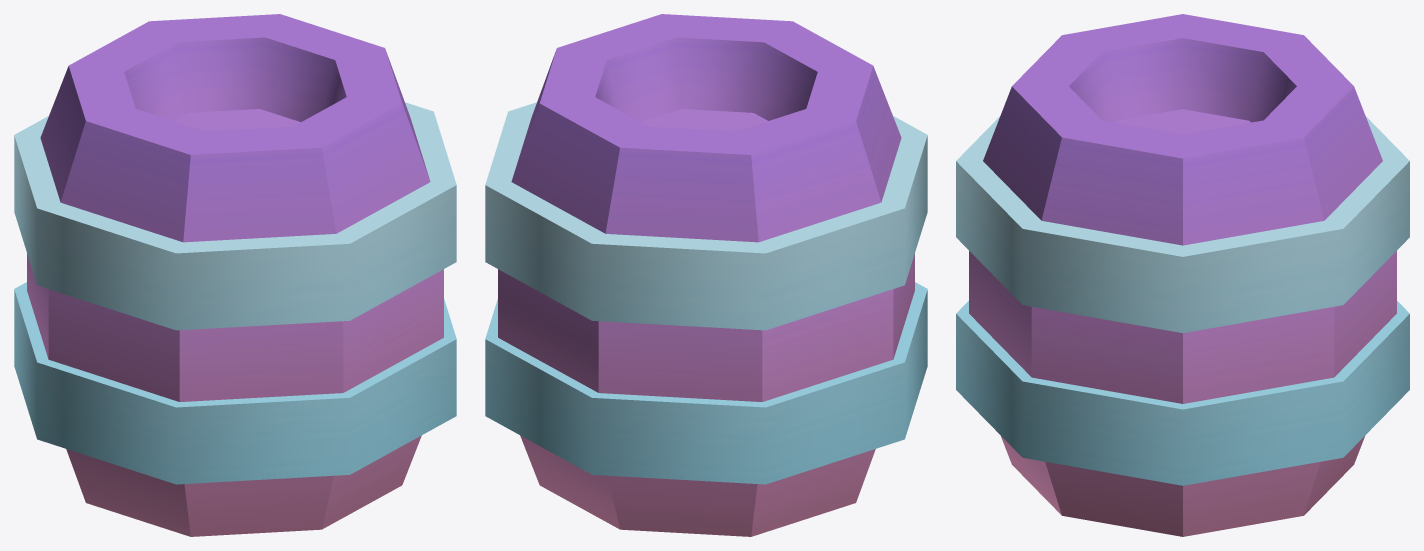
Rendered from barrel.fbx.
3 views of the same model, side by side, from view 1: azimuth 30°, elevation 25°; view 2: azimuth 150°, elevation 25°; view 3: azimuth 270°, elevation 25° (orthographic).
Visible parts, largest first — view 1: barrel; view 2: barrel; view 3: barrel.
Part boxes in pixels (x1=…): barrel: x1=14, y1=14, x2=456, y2=536; barrel: x1=485, y1=14, x2=927, y2=536; barrel: x1=956, y1=14, x2=1409, y2=536.
Size of the model in its own units: 51.76 by 47.62 by 51.76.
